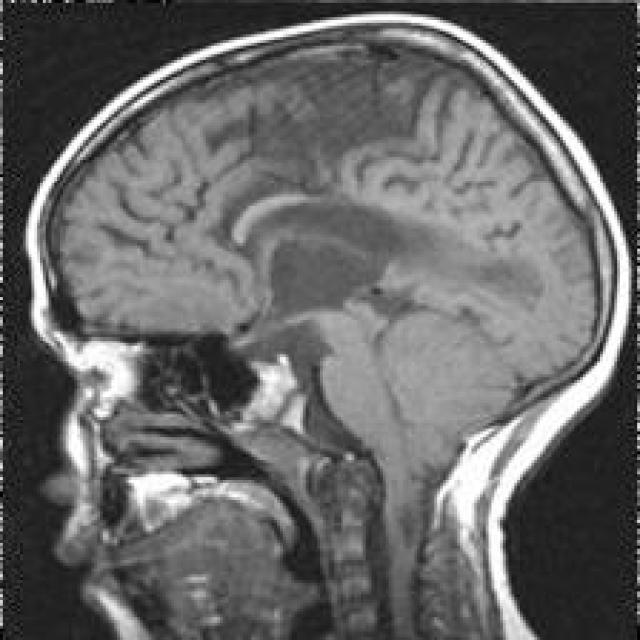no_tumor: (20, 11, 640, 495)
